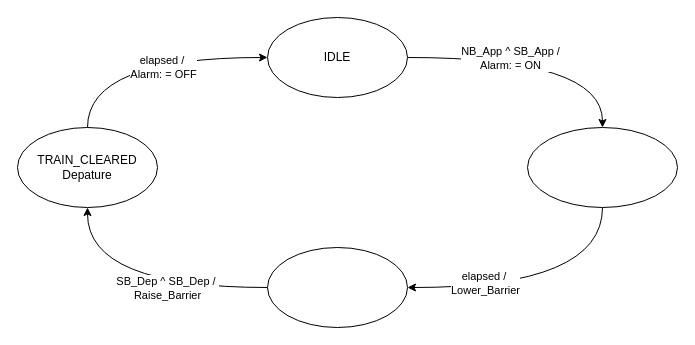
Image size: 695x345. Some labels were removed from this diagram. The shapes that lost their labels are listed below. From the top down, each one's centre as x and y in pixels, then its label:
At pixel 602 167: "ALARM_RINGING Arrived".
At pixel 337 287: "BARRIER_LOWERED".
